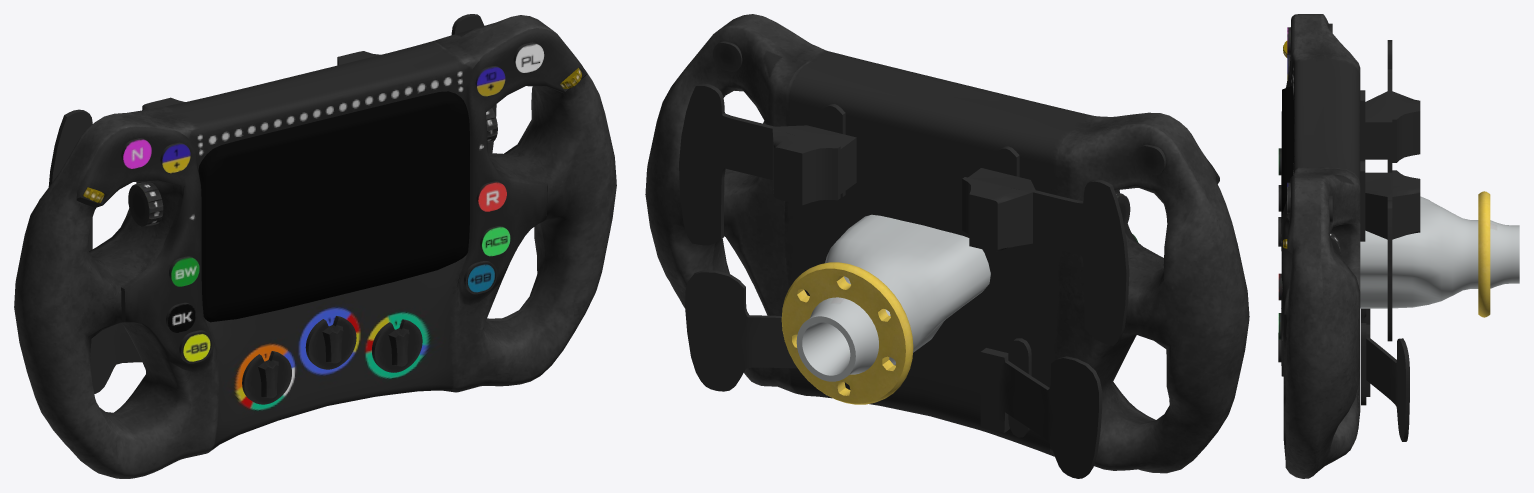
File: steering-wheel_type_formula-optimized.glb
The picture shows the model from 3 angles, left to right: view 1: azimuth 30°, elevation 25°; view 2: azimuth 150°, elevation 25°; view 3: azimuth 270°, elevation 25°; orthographic projection. The views are drawn at different scales.
Parts seen in each view (by area): view 1: Volante_High__0; view 2: Volante_High__0; view 3: Volante_High__0.
Part boxes in pixels (x1,y1,x2,y2): Volante_High__0: (14, 14, 616, 478); Volante_High__0: (645, 14, 1249, 478); Volante_High__0: (1278, 14, 1519, 478).
Size of the model in its own units: 0.3168 by 0.1816 by 0.1343.
1 material, 1 textured.
